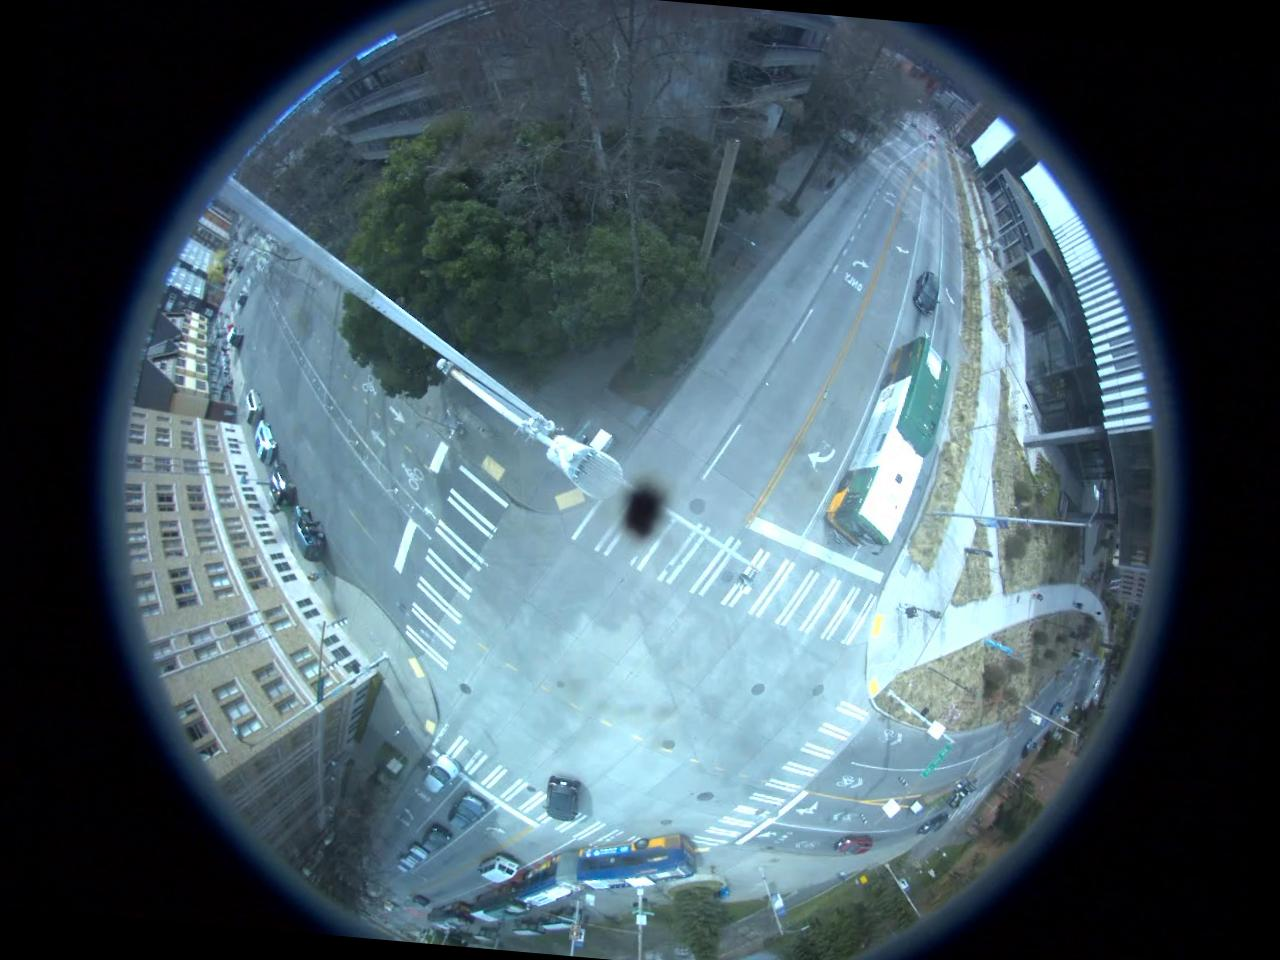bus: (821, 330, 955, 554), (520, 822, 701, 921), (471, 879, 536, 927), (425, 900, 475, 933)
car: (542, 772, 586, 824), (908, 265, 948, 320), (289, 508, 327, 559), (270, 456, 304, 509), (450, 793, 490, 834), (425, 754, 463, 792), (479, 852, 522, 884), (252, 418, 278, 467), (418, 821, 453, 851), (920, 810, 956, 837), (836, 834, 876, 858), (246, 388, 264, 421), (406, 844, 431, 866)
person: (890, 599, 925, 617), (925, 606, 948, 620)
